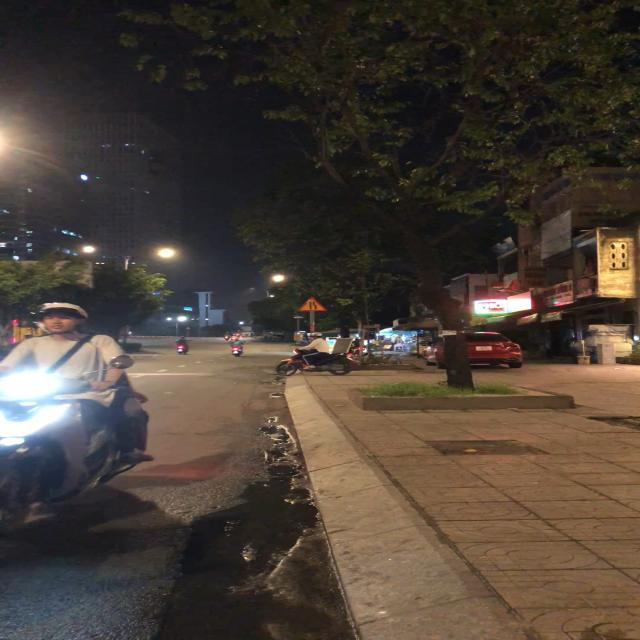Bien bao duong bi thu hep: (291, 296, 328, 312)
